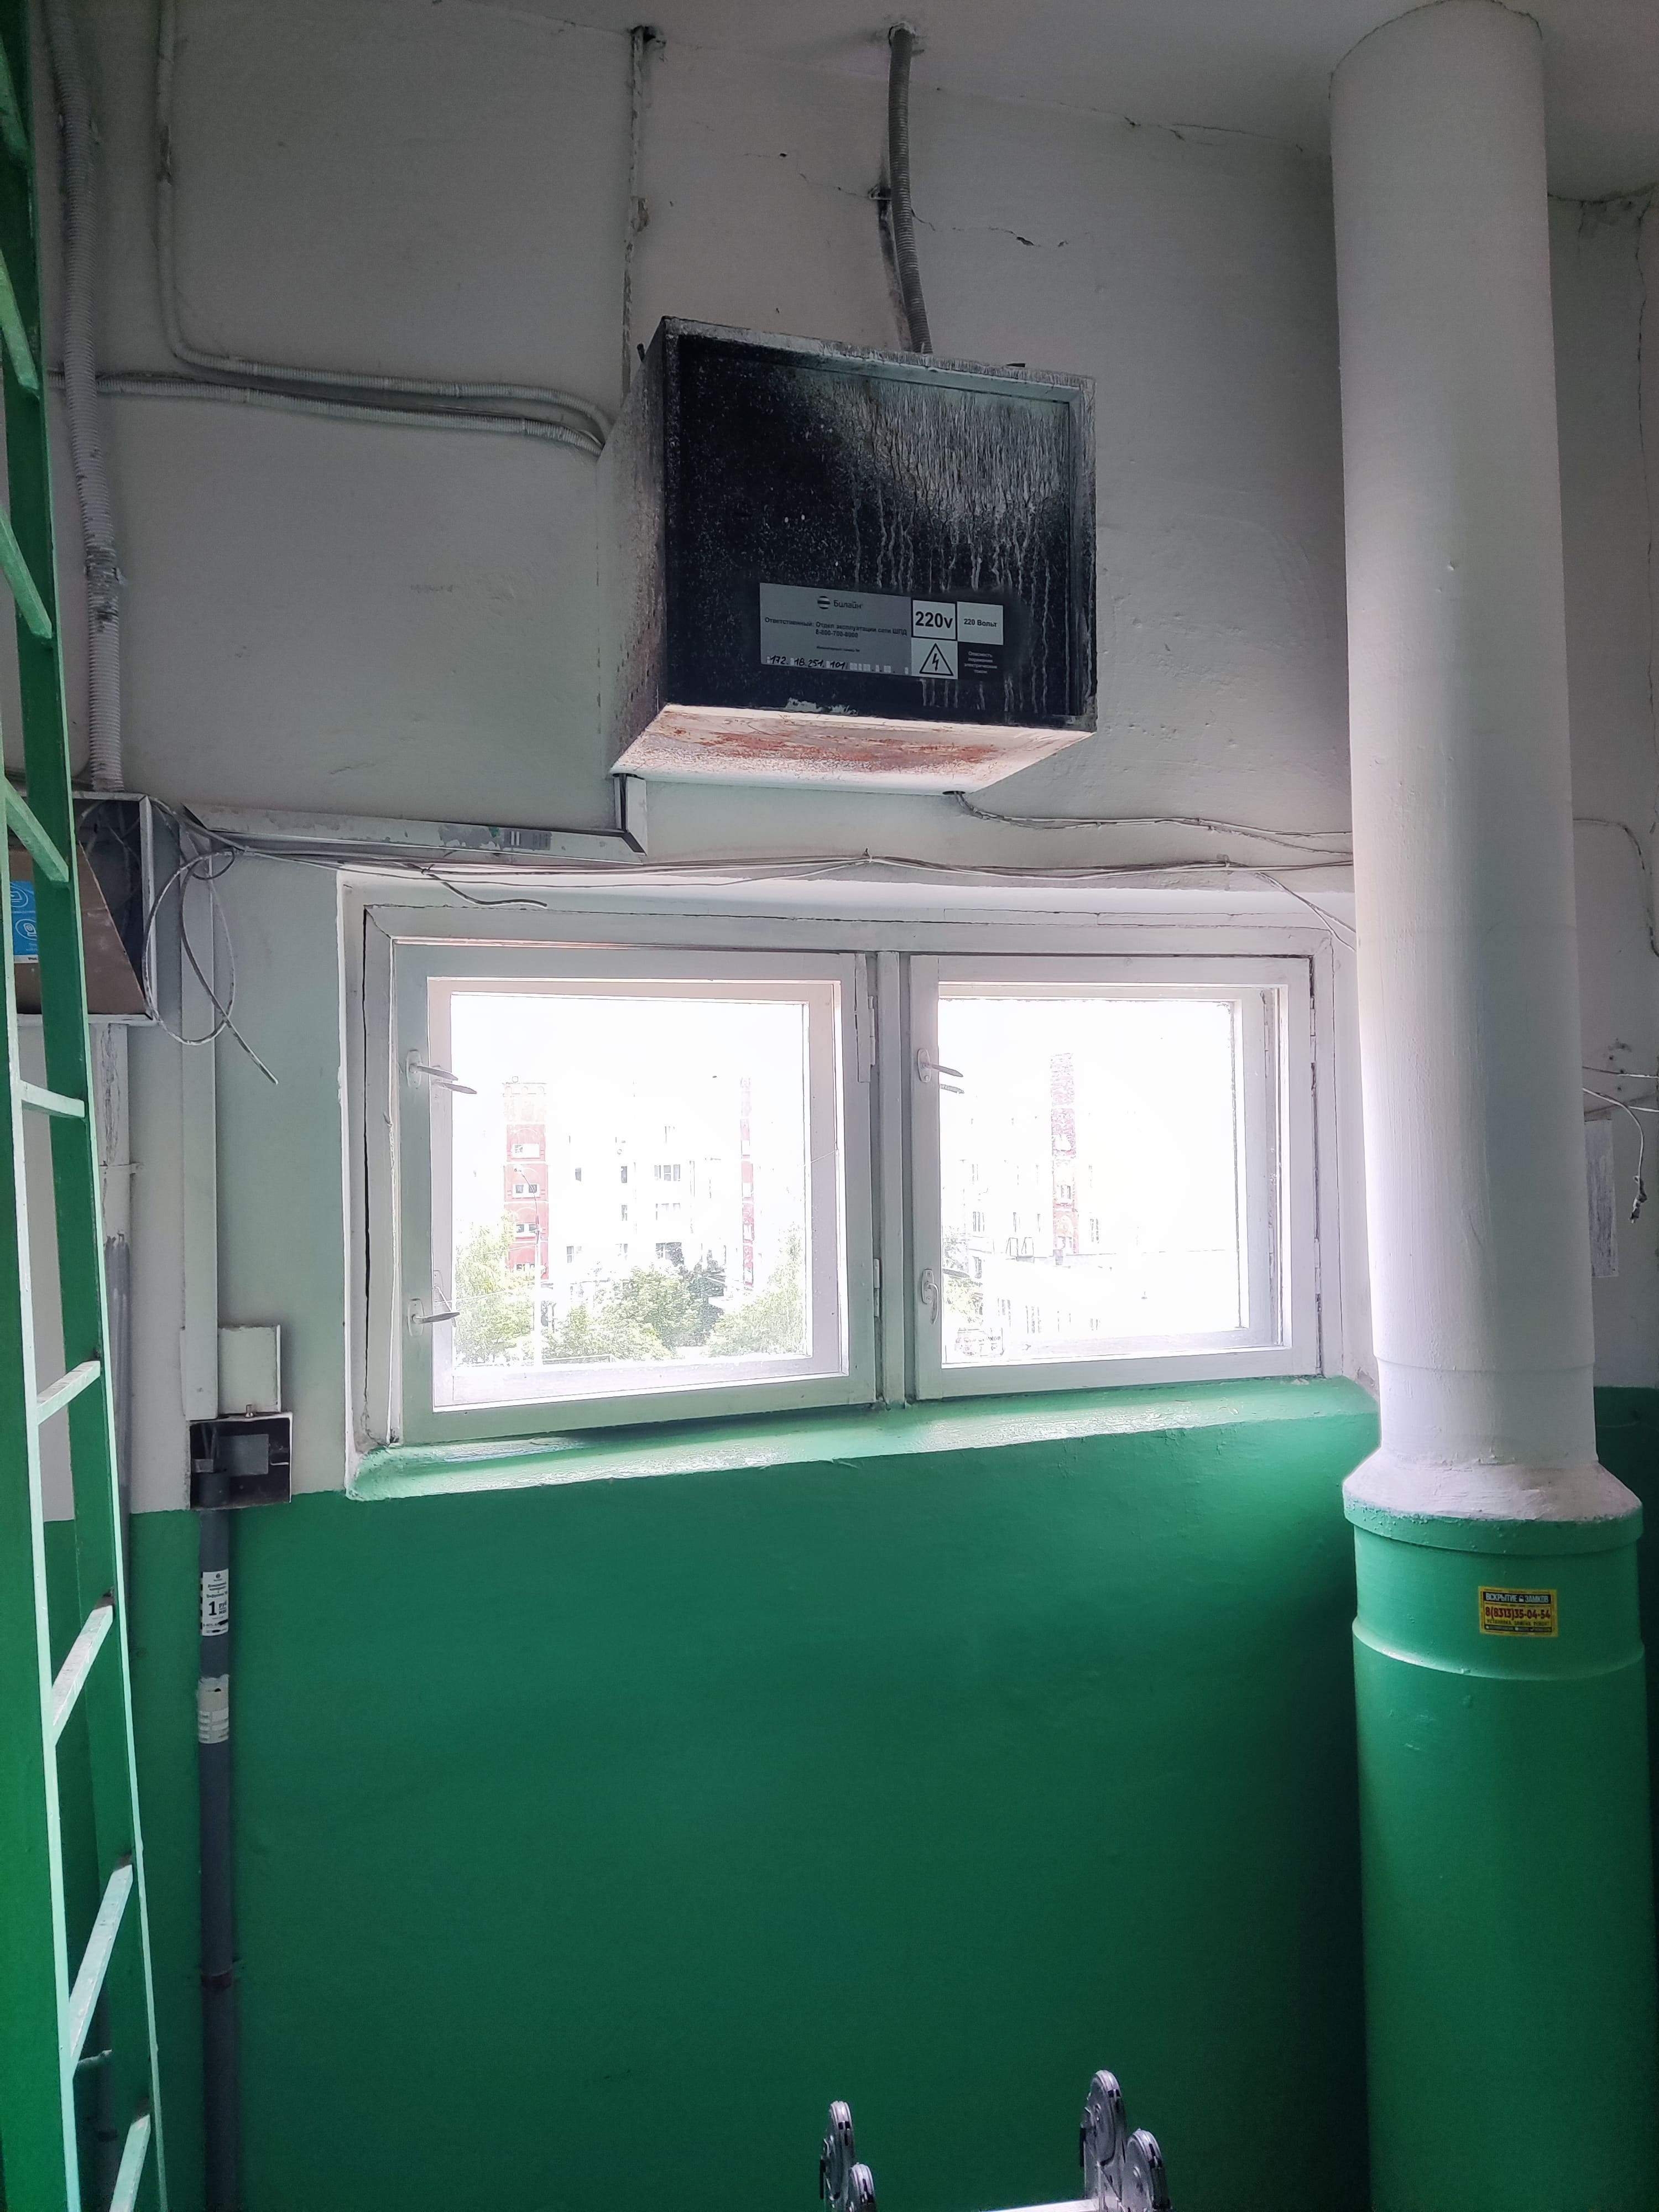shta-9m: (589, 310, 1105, 806)
